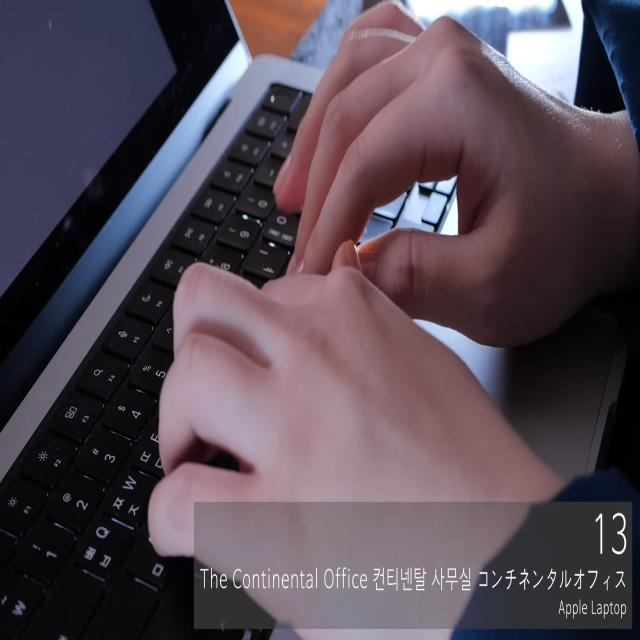keyboard-with-hands: (0, 82, 485, 640)
